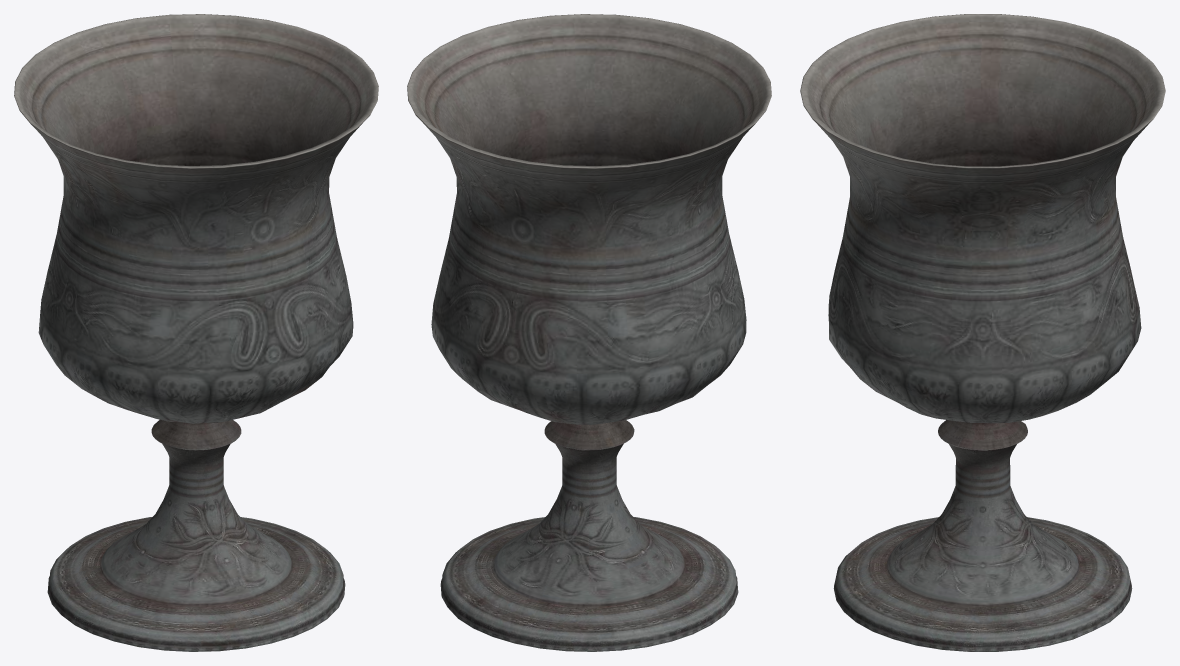
The model's file is goblet.obj.
3 renders of one model, left to right at view 1: azimuth 30°, elevation 25°; view 2: azimuth 150°, elevation 25°; view 3: azimuth 270°, elevation 25°, orthographic.
Visible parts, largest first — view 1: Antique_Silver_Goblet_Type_A_Rough_Silver_Ornate; view 2: Antique_Silver_Goblet_Type_A_Rough_Silver_Ornate; view 3: Antique_Silver_Goblet_Type_A_Rough_Silver_Ornate.
Boxes of the visible parts, x1,y1,x2,y2 form: Antique_Silver_Goblet_Type_A_Rough_Silver_Ornate: [14, 14, 378, 651]; Antique_Silver_Goblet_Type_A_Rough_Silver_Ornate: [407, 14, 771, 651]; Antique_Silver_Goblet_Type_A_Rough_Silver_Ornate: [800, 14, 1165, 651].
Size of the model in its own units: 0.1 by 0.1512 by 0.1004.
